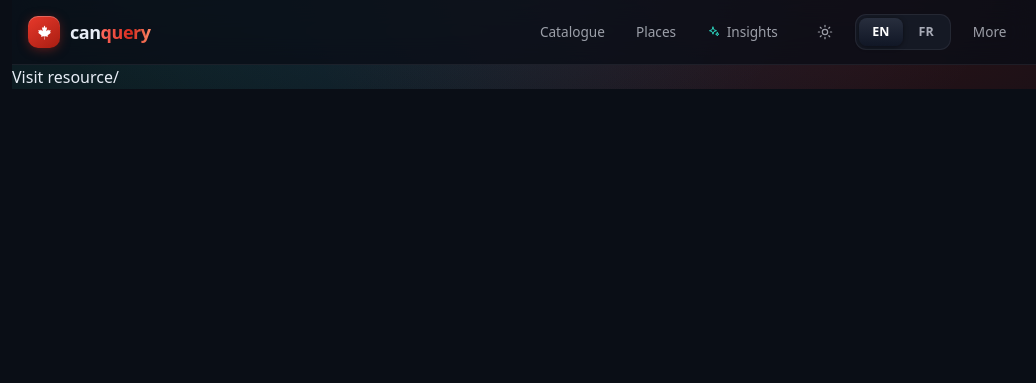
Test: discloses ordinary links and removes closed navigation from focus order
Click the button with aria-label "Open navigation menu": click(990, 32) 959,10 -> 1020,54
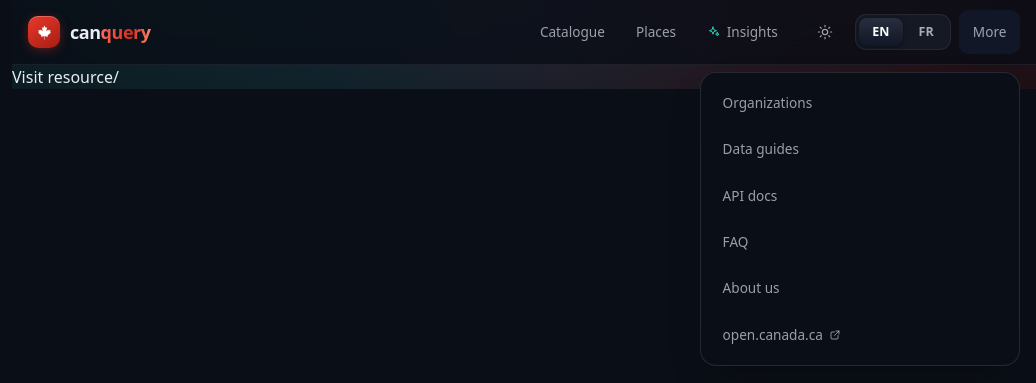
Expected: the number of buttons "EN" is 1, 859,18 -> 903,46
Expected: the number of buttons "FR" is 1, 905,18 -> 947,46
Click the button named "Open navigation menu": click(990, 32) 959,10 -> 1020,54
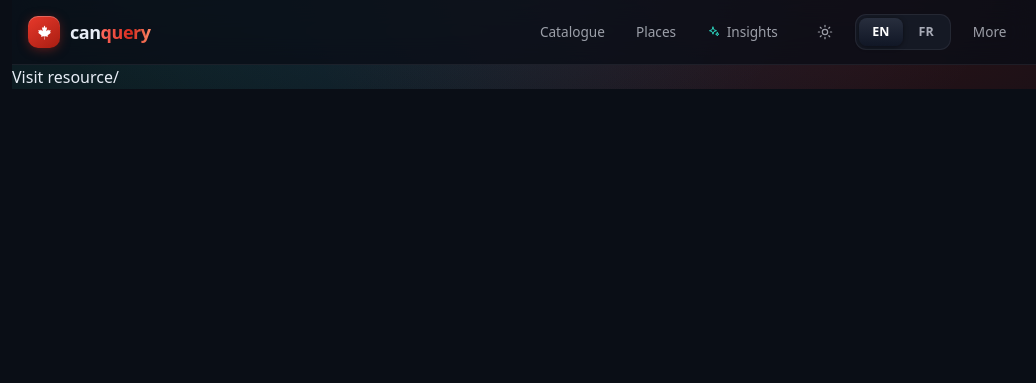
Expected: the navigation bar "Navigation" is gone
